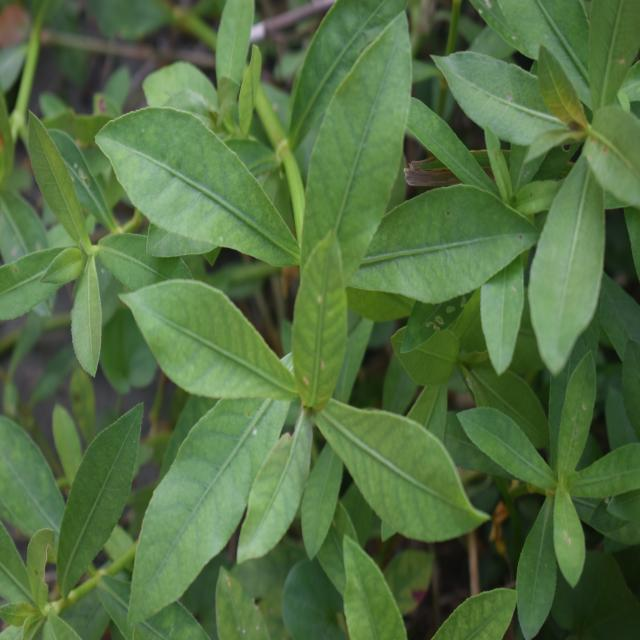Alligatorweed: (89, 36, 484, 544)
